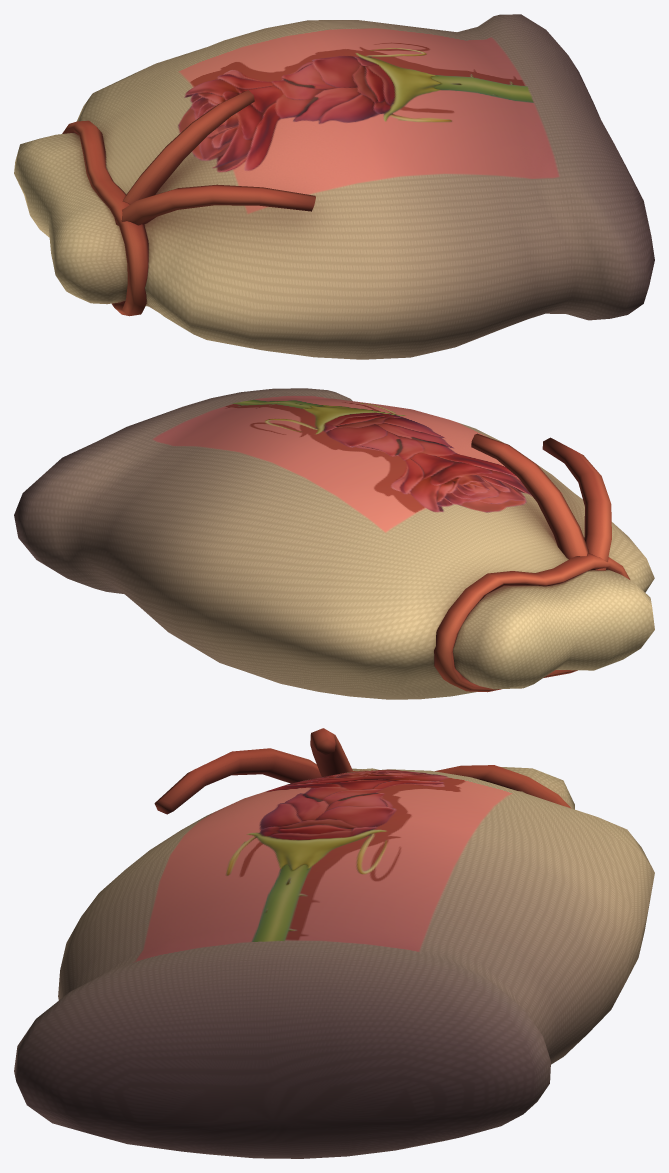
The model's file is RosarosSeed.fbx.
3 renders of one model, top to bottom at view 1: azimuth 30°, elevation 25°; view 2: azimuth 150°, elevation 25°; view 3: azimuth 270°, elevation 25°, orthographic. The views are drawn at different scales.
Visible parts, largest first — view 1: SemillasRosaros; view 2: SemillasRosaros; view 3: SemillasRosaros.
Part boxes in pixels (x1,y1,x2,y2): SemillasRosaros: (14,14,654,359); SemillasRosaros: (14,388,654,699); SemillasRosaros: (14,728,654,1158).
Bounding box in the file's own units: 63.87 × 27.68 × 54.17.
Materials: 1 (1 with a texture image).
